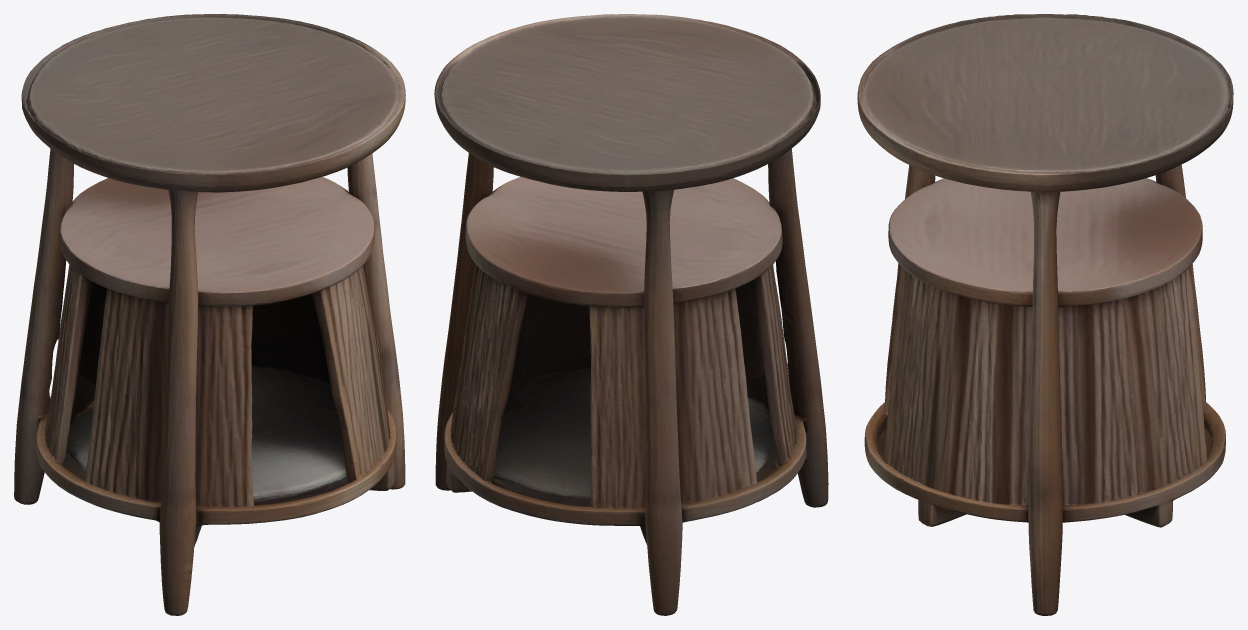
File: ast_06c83d58cb62.glb
3 views of the same model, side by side, from view 1: azimuth 30°, elevation 25°; view 2: azimuth 150°, elevation 25°; view 3: azimuth 270°, elevation 25° (orthographic).
Parts seen in each view (by area): view 1: geometry_0; view 2: geometry_0; view 3: geometry_0.
Boxes of the visible parts, x1,y1,x2,y2 form: geometry_0: (14,14,405,615); geometry_0: (434,14,828,615); geometry_0: (857,14,1233,615).
Bounding box in the file's own units: 0.8523 × 1 × 0.7892.
1 material, 1 textured.
